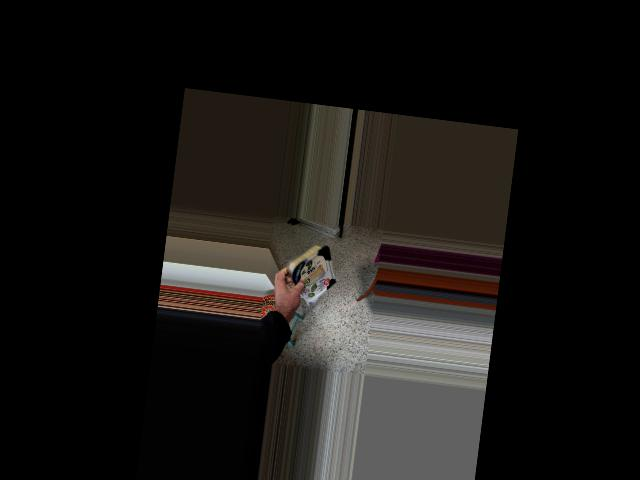cheese: (267, 239, 347, 302)
